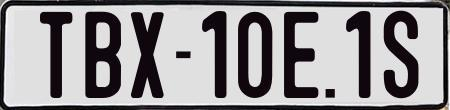0: (238, 11, 276, 102)
1: (346, 11, 375, 101), (200, 8, 228, 100)
B: (82, 10, 122, 100)
E: (283, 11, 323, 99)
S: (382, 10, 417, 103)
T: (37, 10, 74, 97)
X: (128, 9, 165, 99)
